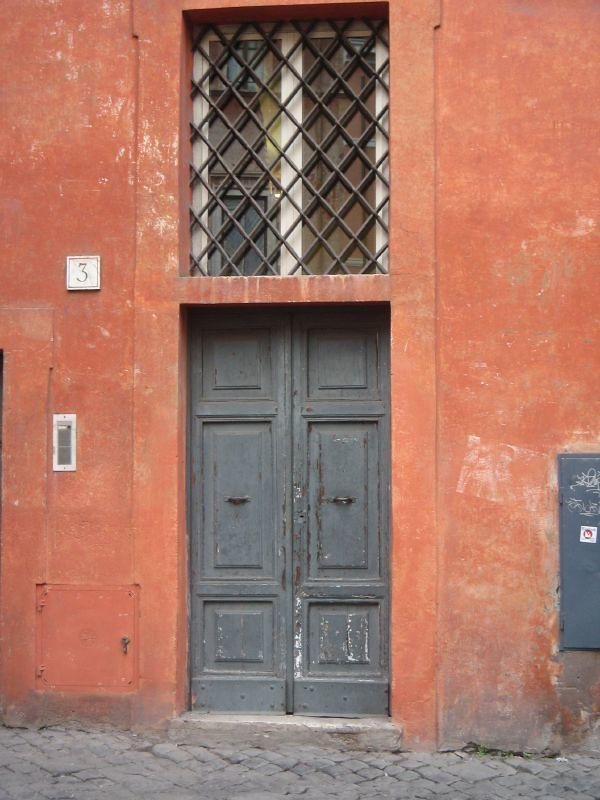door: (186, 303, 393, 719)
